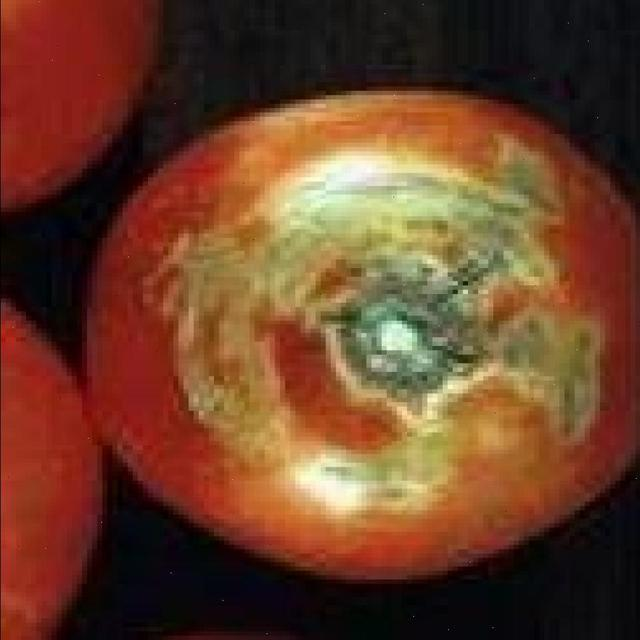Cracking Fruit: (104, 81, 422, 335)
